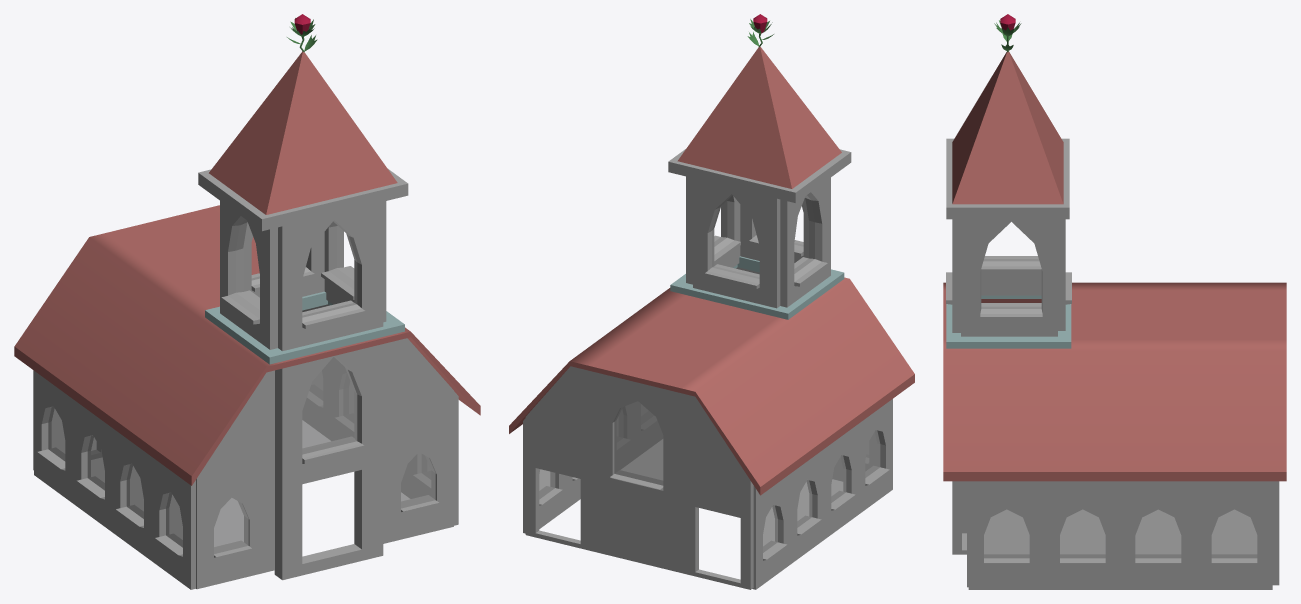
The model's file is ChurchFacade.fbx.
The picture shows the model from 3 angles, left to right: view 1: azimuth 30°, elevation 25°; view 2: azimuth 150°, elevation 25°; view 3: azimuth 270°, elevation 25°; orthographic projection. The views are drawn at different scales.
Visible parts, largest first — view 1: polySurface86; view 2: polySurface86; view 3: polySurface86.
Boxes of the visible parts, x1,y1,x2,y2 form: polySurface86: (14, 14, 480, 589); polySurface86: (509, 14, 914, 589); polySurface86: (943, 14, 1286, 589).
Bounding box in the file's own units: 5.09 × 8.99 × 5.42.
